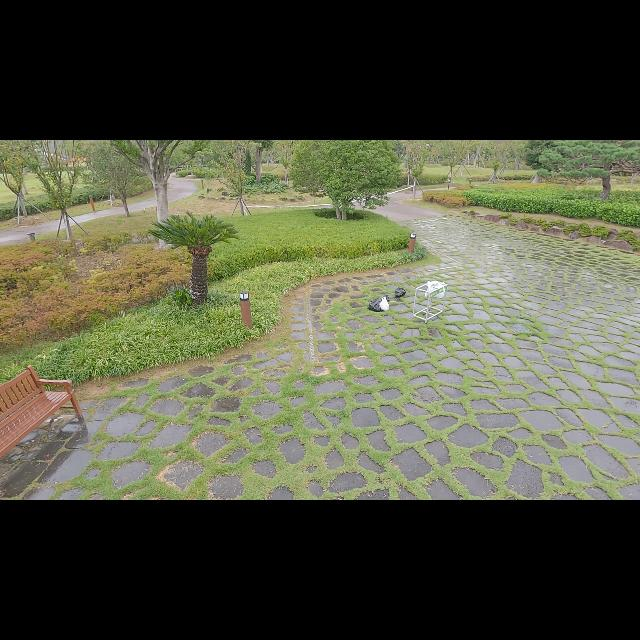trash: (368, 294, 382, 312), (380, 295, 390, 313), (394, 284, 406, 298), (380, 295, 392, 303)
